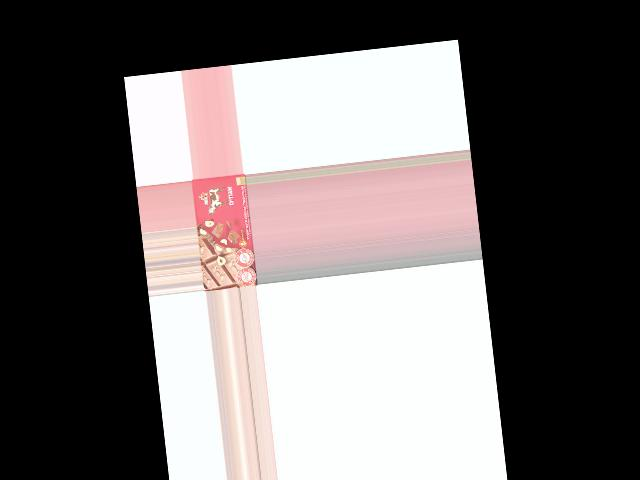chocolate: (192, 173, 256, 290)
